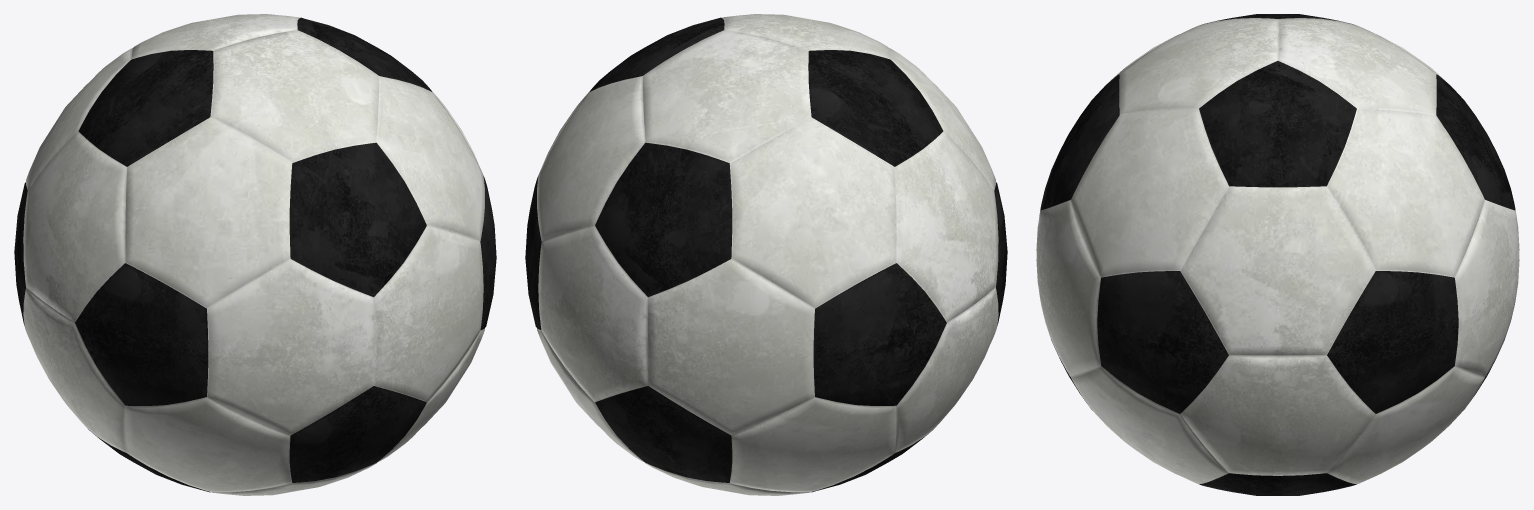
The model's file is ball.glb.
3 renders of one model, left to right at view 1: azimuth 30°, elevation 25°; view 2: azimuth 150°, elevation 25°; view 3: azimuth 270°, elevation 25°, orthographic.
Parts seen in each view (by area): view 1: Soccer Ball Optimized; view 2: Soccer Ball Optimized; view 3: Soccer Ball Optimized.
Part boxes in pixels (x1=…): Soccer Ball Optimized: x1=14, y1=14, x2=496, y2=495; Soccer Ball Optimized: x1=525, y1=14, x2=1007, y2=495; Soccer Ball Optimized: x1=1036, y1=14, x2=1519, y2=495.
Size of the model in its own units: 0.22 by 0.22 by 0.22.
Materials: 1 (1 with a texture image).
